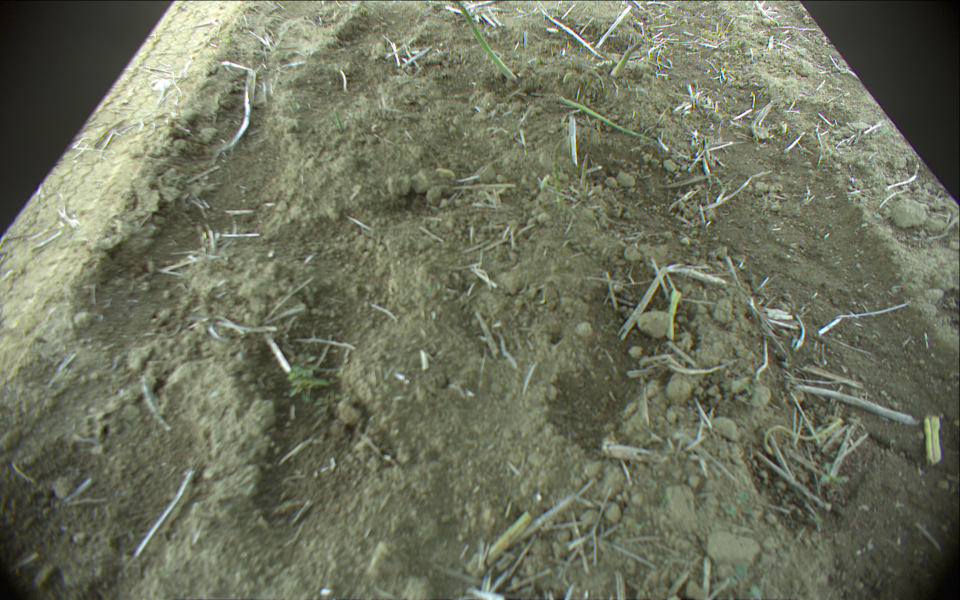aspa: (450, 1, 518, 82), (557, 96, 650, 142), (608, 37, 646, 77), (663, 287, 686, 341)
